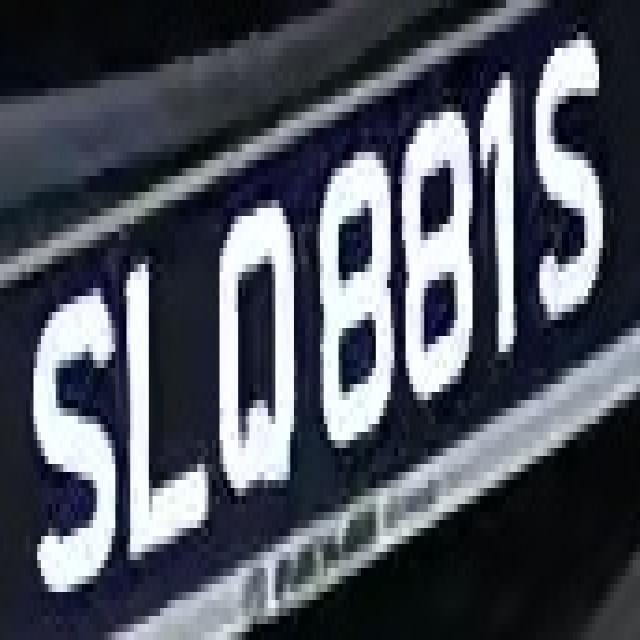1: (484, 40, 528, 384)
8: (387, 88, 487, 424), (312, 136, 402, 464)
L: (115, 208, 212, 576)
Q: (212, 176, 305, 520)
S: (26, 272, 119, 592), (532, 40, 614, 336)
